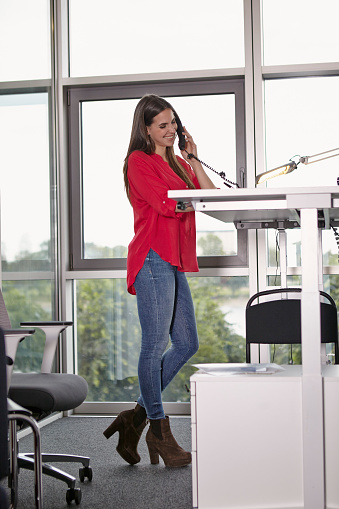em pe: (102, 89, 211, 452)
